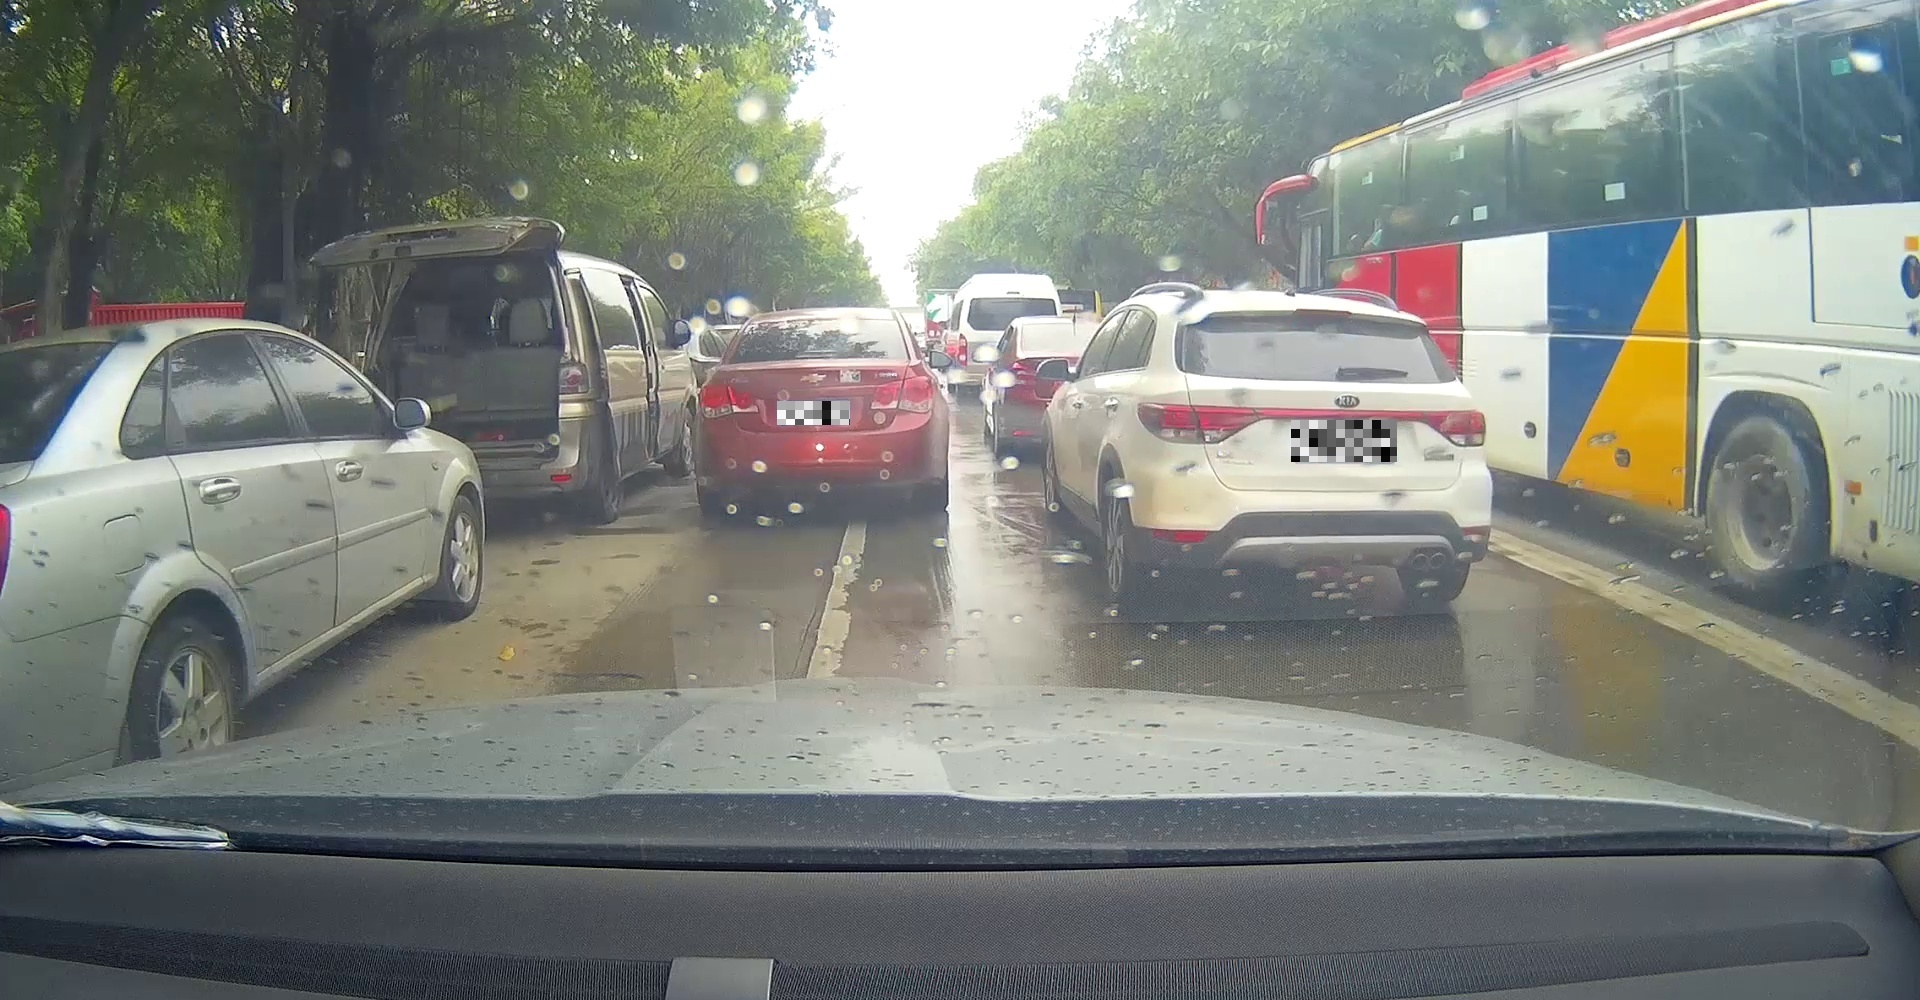L_light: (1137, 402, 1257, 449), (695, 385, 759, 419)
R_light: (1422, 406, 1488, 451), (871, 376, 935, 412)
T_light: (1293, 307, 1355, 319), (792, 349, 839, 359)
day-no: (1126, 288, 1492, 605), (691, 307, 951, 511)
plate_1: (777, 401, 850, 425)
plate_2: (1291, 420, 1397, 462)
